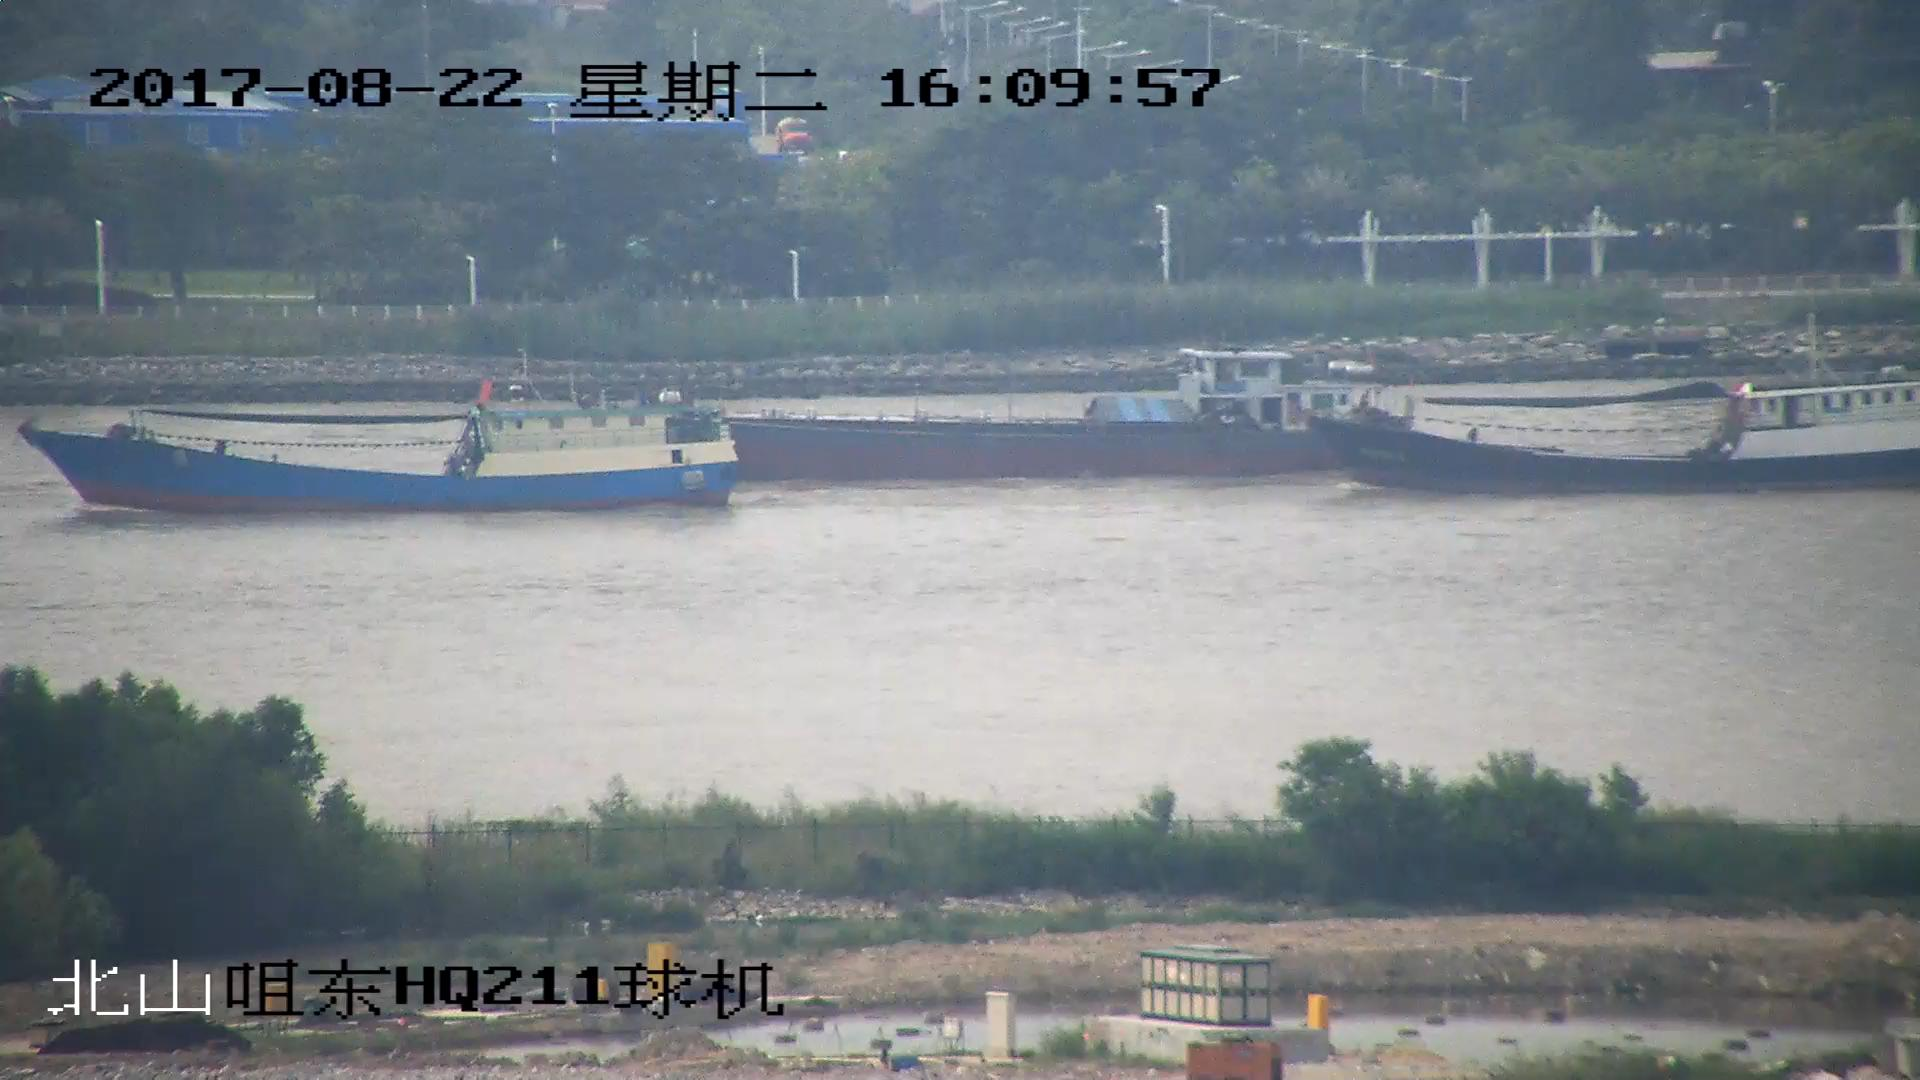bulk cargo carrier: (678, 341, 1359, 480)
fishing boat: (16, 373, 748, 516), (1342, 363, 1920, 488)
